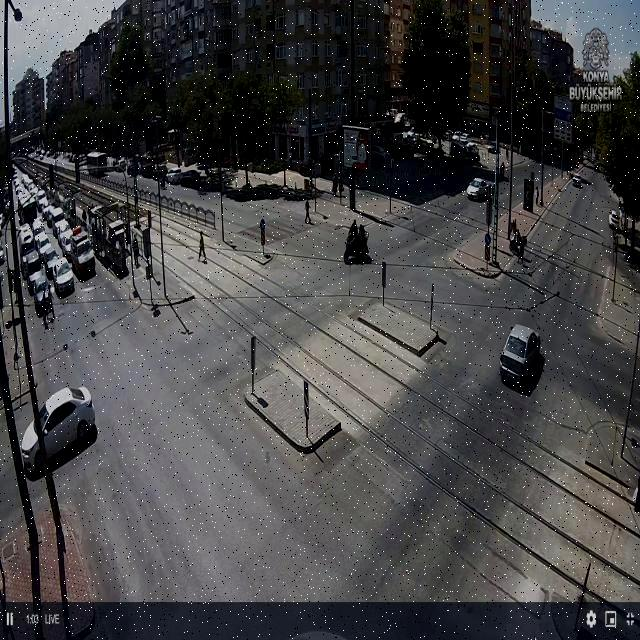Car: (20, 385, 96, 471), (499, 324, 541, 385), (65, 230, 95, 278), (51, 257, 75, 297), (27, 266, 48, 302), (106, 220, 128, 251), (37, 238, 57, 272), (466, 177, 493, 201), (23, 248, 42, 281), (178, 170, 206, 188), (57, 225, 75, 253), (18, 224, 35, 253), (43, 204, 60, 228), (166, 169, 186, 185), (36, 194, 50, 214), (371, 145, 388, 161), (608, 210, 621, 230), (452, 131, 470, 143), (488, 142, 499, 154), (572, 175, 582, 187)
Truck: (450, 140, 478, 162)
